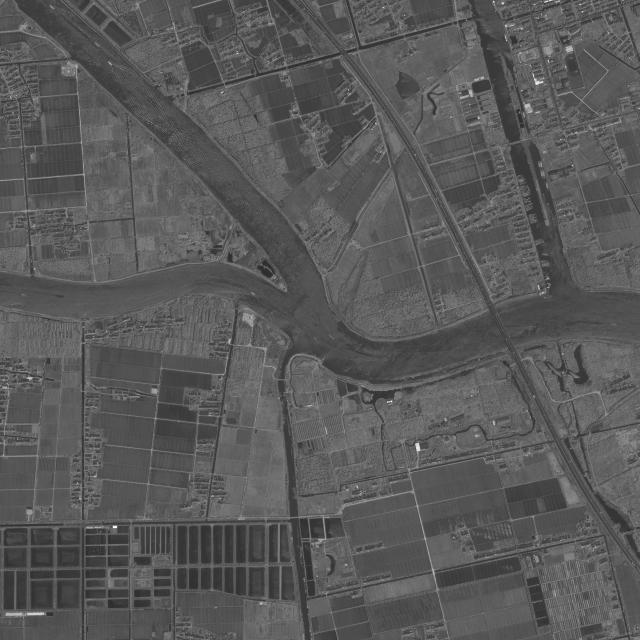ship: (93, 41, 102, 49), (107, 60, 116, 68), (48, 4, 57, 11), (535, 240, 545, 246), (327, 333, 335, 340), (140, 103, 148, 110), (522, 193, 532, 198), (297, 323, 305, 329), (503, 33, 508, 42), (537, 161, 542, 170), (535, 239, 544, 244), (250, 291, 257, 297), (540, 160, 544, 170), (545, 181, 549, 191), (55, 295, 65, 299), (18, 293, 28, 297), (526, 207, 534, 212), (525, 205, 533, 210), (355, 356, 364, 360), (542, 170, 546, 179), (540, 170, 544, 179), (547, 203, 551, 212), (521, 192, 530, 196), (517, 177, 526, 181), (524, 203, 533, 207), (530, 220, 539, 224), (528, 216, 537, 220), (526, 185, 531, 192), (514, 80, 518, 88), (521, 190, 529, 194), (520, 188, 528, 192), (519, 185, 527, 189), (519, 181, 527, 185), (518, 179, 526, 183), (544, 295, 552, 299), (534, 238, 542, 242), (312, 336, 318, 341), (158, 115, 164, 120), (541, 263, 551, 266), (521, 189, 528, 193), (520, 186, 527, 190), (517, 176, 524, 180), (517, 175, 524, 179), (525, 205, 532, 209), (541, 261, 550, 264), (542, 253, 551, 256), (529, 219, 538, 222), (528, 215, 537, 218), (529, 325, 537, 328), (523, 197, 531, 200), (529, 218, 537, 221), (528, 213, 536, 216), (379, 358, 390, 360), (542, 194, 545, 201), (519, 184, 526, 187), (519, 181, 526, 184), (516, 174, 523, 177), (540, 260, 549, 262), (523, 199, 531, 201), (542, 265, 550, 267), (545, 274, 550, 277), (524, 201, 531, 203), (524, 202, 530, 204), (544, 279, 550, 281), (546, 277, 550, 279), (546, 276, 549, 278), (546, 277, 550, 278)
storage-tank: (67, 69, 71, 74)
